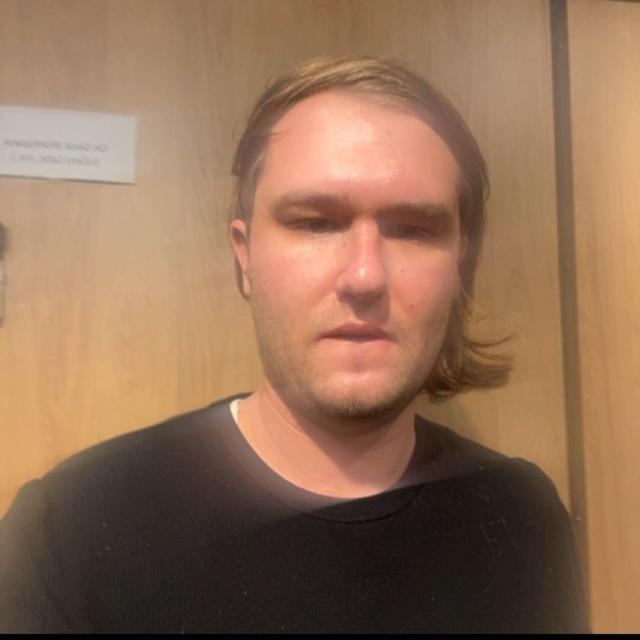no-helmet: (208, 16, 541, 513)
